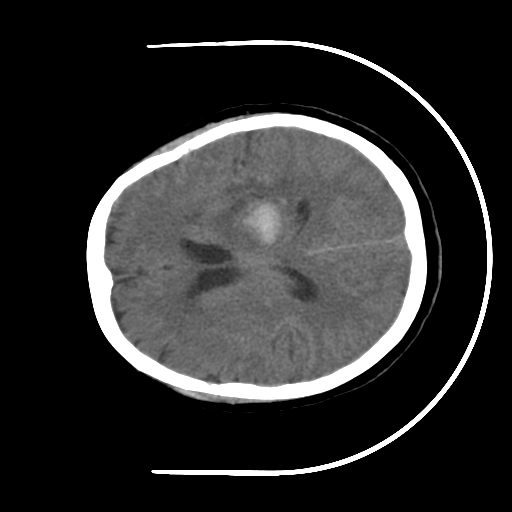a: (195, 165, 306, 268)
